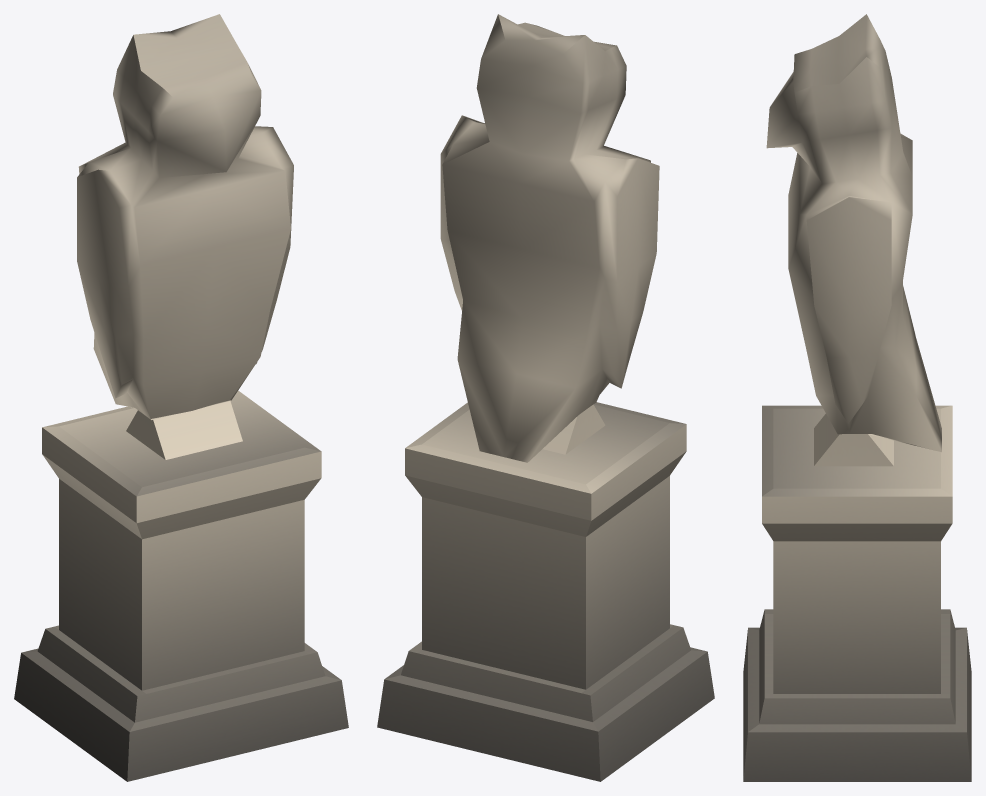
Rendered from eläin Patsas.fbx.
3 renders of one model, left to right at view 1: azimuth 30°, elevation 25°; view 2: azimuth 150°, elevation 25°; view 3: azimuth 270°, elevation 25°, orthographic.
Visible parts, largest first — view 1: pCube1, pCube2; view 2: pCube1, pCube2; view 3: pCube1, pCube2.
Boxes of the visible parts, left/top/right/bottom form: pCube1: left=14, top=390, right=348, bottom=781; pCube2: left=77, top=14, right=293, bottom=459; pCube1: left=377, top=402, right=714, bottom=781; pCube2: left=440, top=14, right=659, bottom=462; pCube1: left=743, top=405, right=971, bottom=781; pCube2: left=766, top=14, right=941, bottom=466.
Size of the model in its own units: 2.9 by 8.58 by 2.57.
